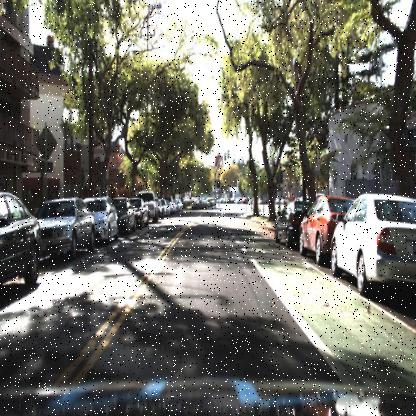car: (328, 191, 413, 293), (0, 188, 42, 297), (294, 193, 358, 259), (33, 195, 96, 256), (84, 194, 120, 247), (110, 192, 136, 236), (274, 197, 296, 246), (136, 188, 160, 224), (126, 198, 148, 230), (238, 194, 250, 206)
